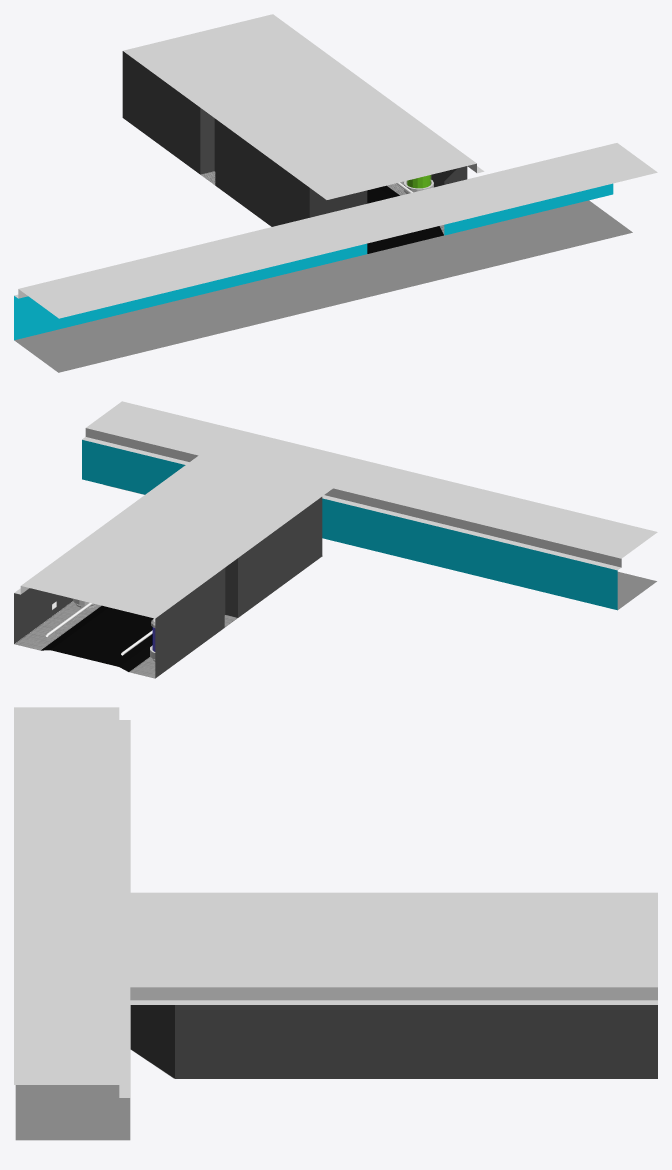
File: corredor2 (4).fbx
The picture shows the model from 3 angles, top to bottom: view 1: azimuth 30°, elevation 25°; view 2: azimuth 150°, elevation 25°; view 3: azimuth 270°, elevation 25°; orthographic projection. The views are drawn at different scales.
Parts seen in each view (by area): view 1: TetoComeco, Chao.001, TetoComeco.001, paredes, paredes.001, Chao; view 2: TetoComeco, TetoComeco.001, paredes, Chao.001, paredes.001, Chao; view 3: TetoComeco, TetoComeco.001, paredes, Chao.001.
Part boxes in pixels (left/top/right/bottom): TetoComeco: left=123, top=14, right=484, bottom=199; Chao.001: left=14, top=183, right=632, bottom=372; TetoComeco.001: left=14, top=143, right=657, bottom=318; paredes: left=122, top=51, right=467, bottom=226; paredes.001: left=14, top=279, right=222, bottom=340; Chao: left=201, top=171, right=444, bottom=253; TetoComeco: left=14, top=452, right=337, bottom=618; TetoComeco.001: left=82, top=401, right=657, bottom=570; paredes: left=14, top=497, right=322, bottom=678; Chao.001: left=82, top=440, right=656, bottom=609; paredes.001: left=431, top=525, right=617, bottom=610; Chao: left=14, top=601, right=237, bottom=678; TetoComeco: left=130, top=892, right=657, bottom=1004; TetoComeco.001: left=14, top=707, right=130, bottom=1097; paredes: left=130, top=1005, right=657, bottom=1078; Chao.001: left=15, top=1085, right=130, bottom=1140.
Size of the model in its own units: 1952 by 209 by 1406.
